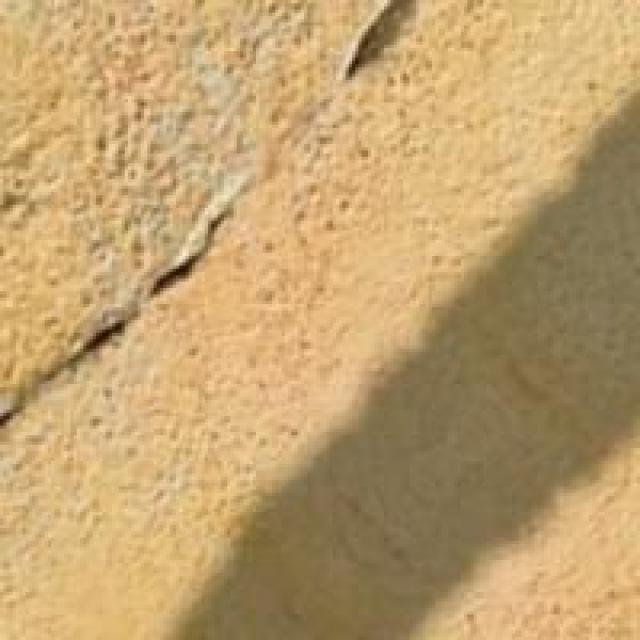Crack: (3, 3, 409, 400)
